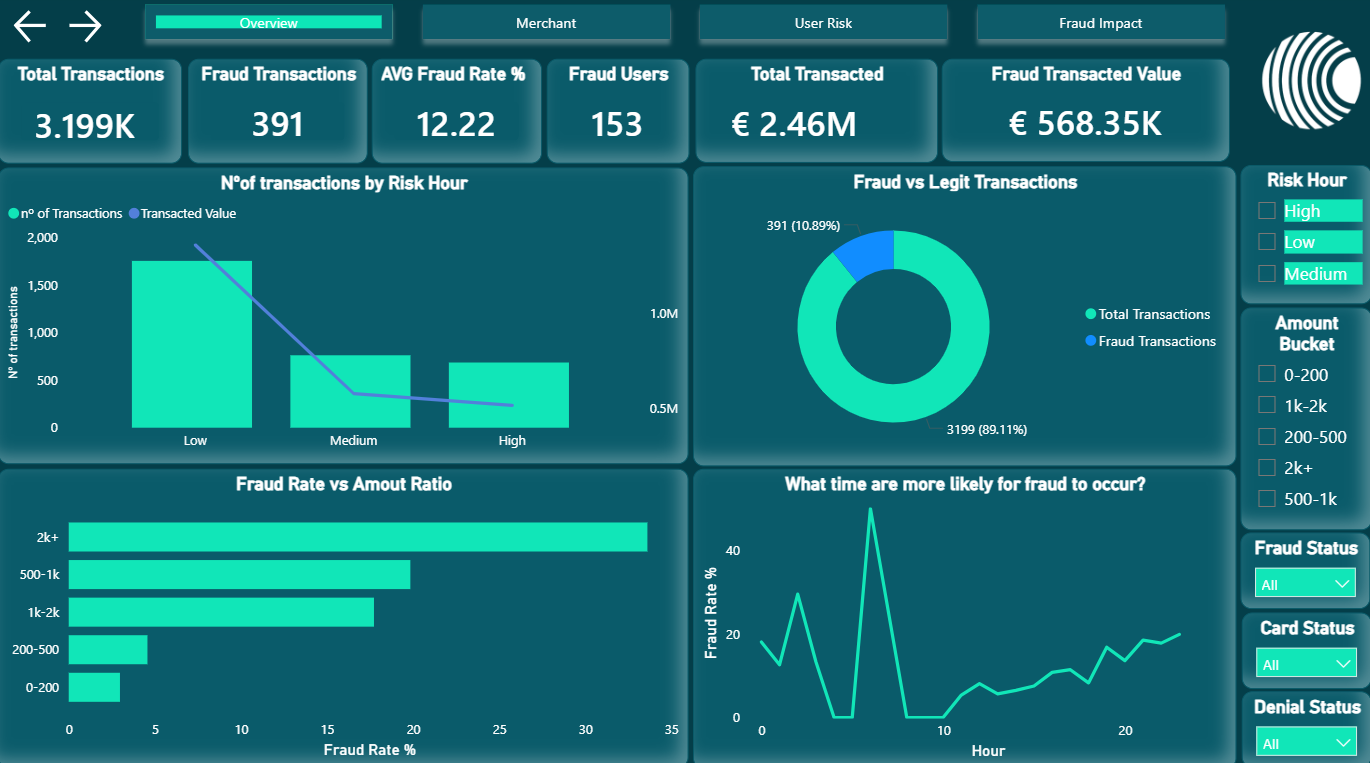

What the dashboard file says about the page in this screenshot:
{"tool":"powerbi","page":{"name":"Overview","canvas":[1280,720],"ordinal":0},"visuals":[{"type":"cardVisual","title":"Total Transactions","fields":{"Data":["_Measures.Total Transactions"]},"box":[0,58.8,171.2,97.5],"z":0},{"type":"cardVisual","title":"AVG Fraud Rate %","fields":{"Data":["_Measures.Fraud Rate %"]},"box":[347.9,58.8,158.8,97.5],"z":1000},{"type":"cardVisual","title":"Fraud Users","fields":{"Data":["Count(vw_fraud_users.user_id)"]},"box":[510,58.8,132.5,97.5],"z":2000},{"type":"donutChart","title":"Fraud vs Legit Transactions","fields":{"Y":["_Measures.Total Transactions","_Measures.Fraud Transactions"]},"box":[646.6,159.9,505.5,279.4],"z":3000},{"type":"clusteredBarChart","title":"Fraud Rate vs Amout Ratio","fields":{"Y":["_Measures.Fraud Rate %"],"Category":["transactional-sample.amount_bucket"]},"box":[0,441.2,642.5,278.8],"z":4000},{"type":"lineChart","title":"What time are more likely for fraud to occur?","fields":{"Y":["_Measures.Fraud Rate %"],"Category":["transactional-sample.Hour"]},"box":[646.6,440.7,505.5,279.4],"z":5000},{"type":"lineStackedColumnComboChart","title":"Nºof transactions by Risk Hour","fields":{"Category":["transactional-sample.Risk_hour"],"Y":["CountNonNull(transactional-sample.transaction_id)"],"Y2":["Sum(transactional-sample.transaction_amount)"]},"box":[0,160,642.5,276.2],"z":6000},{"type":"cardVisual","title":"Fraud Transactions","fields":{"Data":["_Measures.Fraud Transactions"]},"box":[176.2,58.8,167.5,97.5],"z":7000},{"type":"cardVisual","title":"Total Transacted ","fields":{"Data":["Sum(transactional-sample.transaction_amount)"]},"box":[649.2,59.3,225.3,96.9],"z":8000},{"type":"cardVisual","title":"Fraud Transacted Value","fields":{"Data":["_Measures.Fraud Transacted Value"]},"box":[878.1,59.3,267.7,95.7],"z":9000},{"type":"image","box":[1167.5,0,108.8,156.2],"z":10000},{"type":"actionButton","box":[60,8.8,47.5,40],"z":11000},{"type":"actionButton","box":[10,8.8,50,40],"z":12000},{"type":"pageNavigator","box":[128.2,0,1023.9,50.4],"z":13000},{"type":"slicer","title":"Risk Hour","fields":{"Values":["transactional-sample.Risk_hour"]},"box":[1155.5,158.7,122.3,129.6],"z":14000},{"type":"slicer","title":"Amount Bucket","fields":{"Values":["transactional-sample.amount_bucket"]},"box":[1155.5,290.5,122.3,207.1],"z":15000},{"type":"slicer","title":"Fraud Status","fields":{"Values":["transactional-sample.Fraud Status"]},"box":[1155.5,500,121.1,71.5],"z":16000},{"type":"slicer","title":"Card Status","fields":{"Values":["transactional-sample.Card Shared Status"]},"box":[1156.7,573.9,121.1,71.5],"z":17000},{"type":"slicer","title":"Denial Status","fields":{"Values":["transactional-sample.Denial Status"]},"box":[1156.7,648,121.1,71.5],"z":18000}]}

Visuals, with their boxes in screenshot pixels (x1, y1, x2, y2), scaled from the page's 1280x720 canvas onto the 1370x763 screenshot:
"Total Transactions" cardVisual: [left=0, top=62, right=183, bottom=166]
"AVG Fraud Rate %" cardVisual: [left=372, top=62, right=542, bottom=166]
"Fraud Users" cardVisual: [left=546, top=62, right=688, bottom=166]
"Fraud vs Legit Transactions" donutChart: [left=692, top=169, right=1233, bottom=466]
"Fraud Rate vs Amout Ratio" clusteredBarChart: [left=0, top=468, right=688, bottom=762]
"What time are more likely for fraud to occur?" lineChart: [left=692, top=467, right=1233, bottom=762]
"Nºof transactions by Risk Hour" lineStackedColumnComboChart: [left=0, top=170, right=688, bottom=462]
"Fraud Transactions" cardVisual: [left=189, top=62, right=368, bottom=166]
"Total Transacted " cardVisual: [left=695, top=63, right=936, bottom=166]
"Fraud Transacted Value" cardVisual: [left=940, top=63, right=1226, bottom=164]
image: [left=1250, top=0, right=1366, bottom=166]
actionButton: [left=64, top=9, right=115, bottom=52]
actionButton: [left=11, top=9, right=64, bottom=52]
pageNavigator: [left=137, top=0, right=1233, bottom=53]
"Risk Hour" slicer: [left=1237, top=168, right=1368, bottom=306]
"Amount Bucket" slicer: [left=1237, top=308, right=1368, bottom=527]
"Fraud Status" slicer: [left=1237, top=530, right=1366, bottom=606]
"Card Status" slicer: [left=1238, top=608, right=1368, bottom=684]
"Denial Status" slicer: [left=1238, top=687, right=1368, bottom=762]
